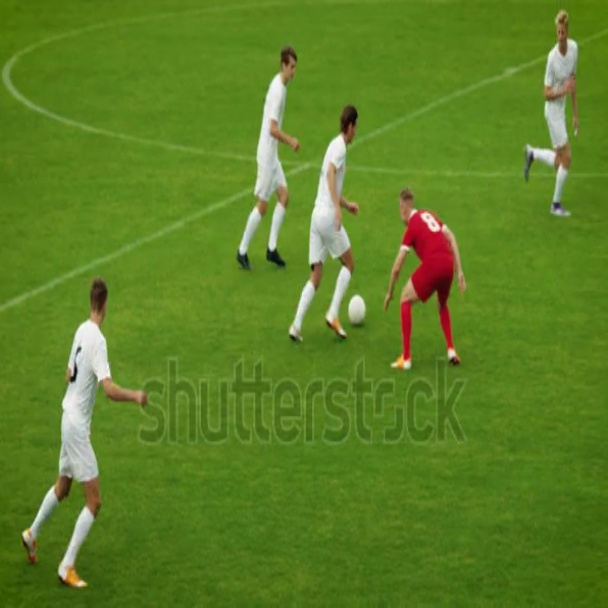ball: (350, 292, 366, 327)
